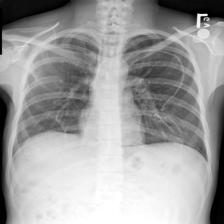normal: (11, 29, 210, 168)
